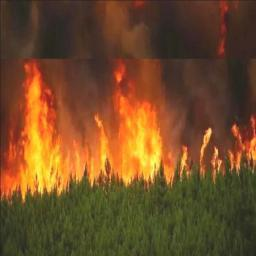Heavy smoke: (3, 1, 255, 87)
Large fire: (2, 63, 256, 210)
